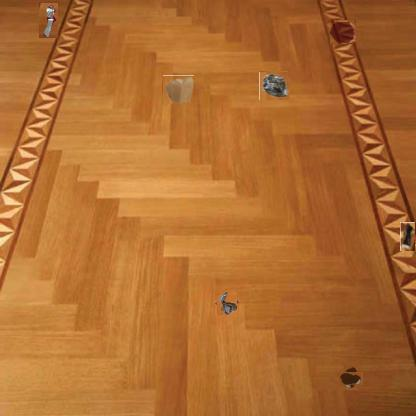dirty: (162, 75, 194, 104), (260, 72, 289, 101), (38, 2, 58, 38), (216, 292, 238, 314), (400, 222, 415, 251)
liquid: (330, 20, 356, 44), (341, 369, 361, 387)
